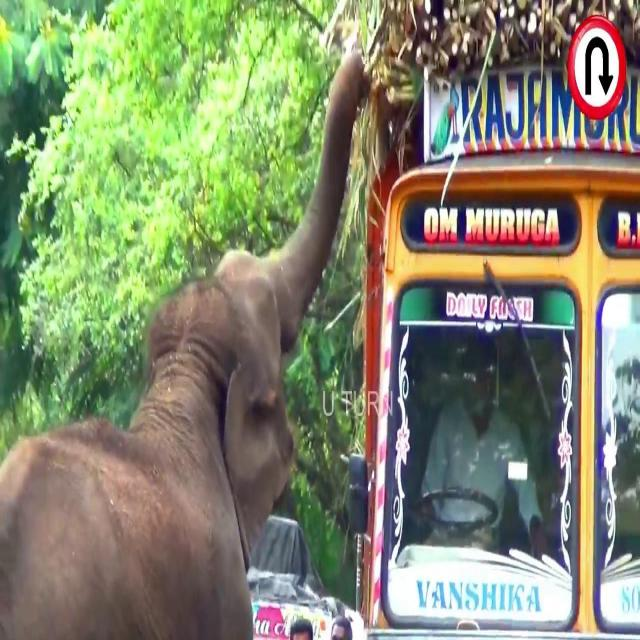Elephant: (1, 51, 369, 630)
